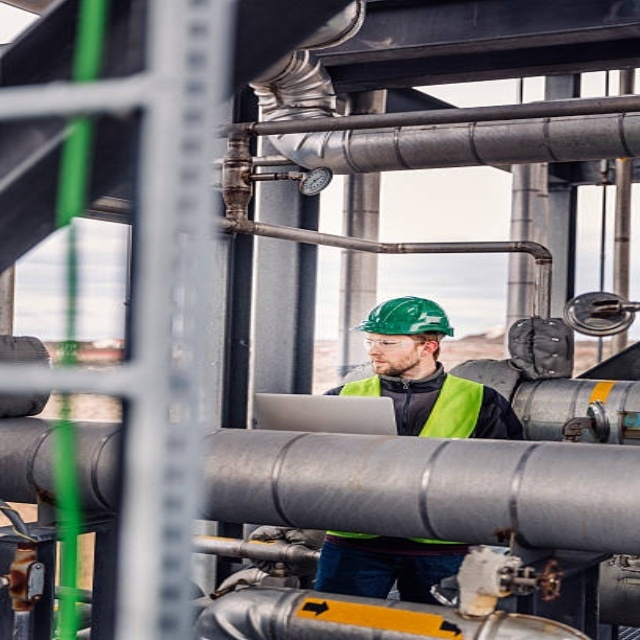Gafas: (361, 337, 426, 350)
Sin_mascara: (369, 356, 400, 372)
